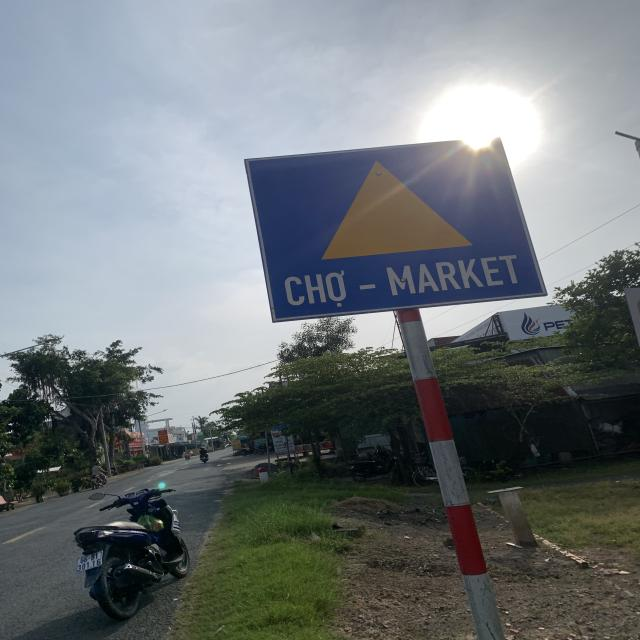Cho_Quay_Xe: (245, 138, 546, 321)
